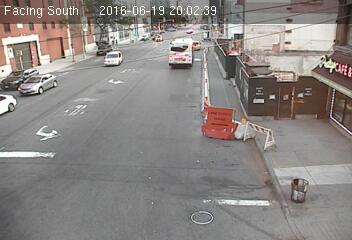neg: (85, 74, 112, 110), (49, 121, 73, 153), (288, 44, 312, 76), (287, 172, 311, 203), (87, 162, 111, 193), (208, 164, 231, 195), (205, 53, 228, 83), (279, 104, 302, 134), (135, 98, 157, 127), (166, 146, 188, 174), (162, 63, 180, 88), (220, 117, 236, 139)
